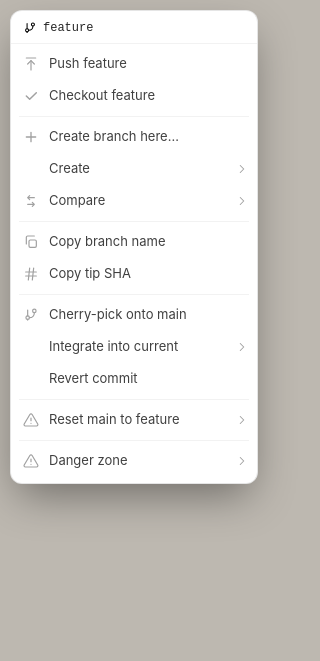
BranchContextMenu › offers fast-forward when the probe confirms it
Click the menu item "Integrate into current" at [134, 347], box x1=11 y1=331 x2=257 y2=363
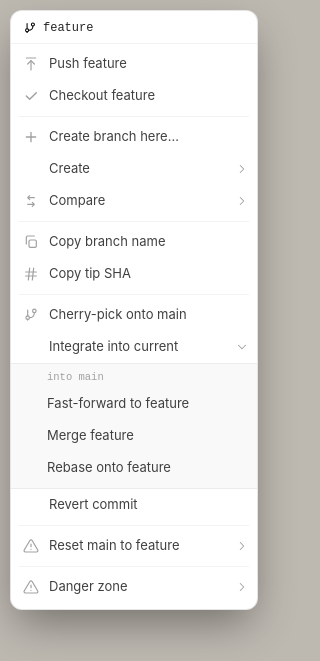
Check: the menu item "Fast-forward to feature" is shown, box x1=11 y1=388 x2=257 y2=420
